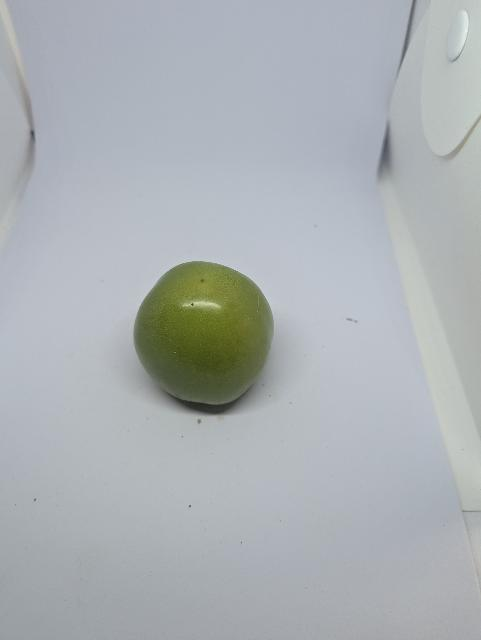green: (132, 258, 277, 408)
